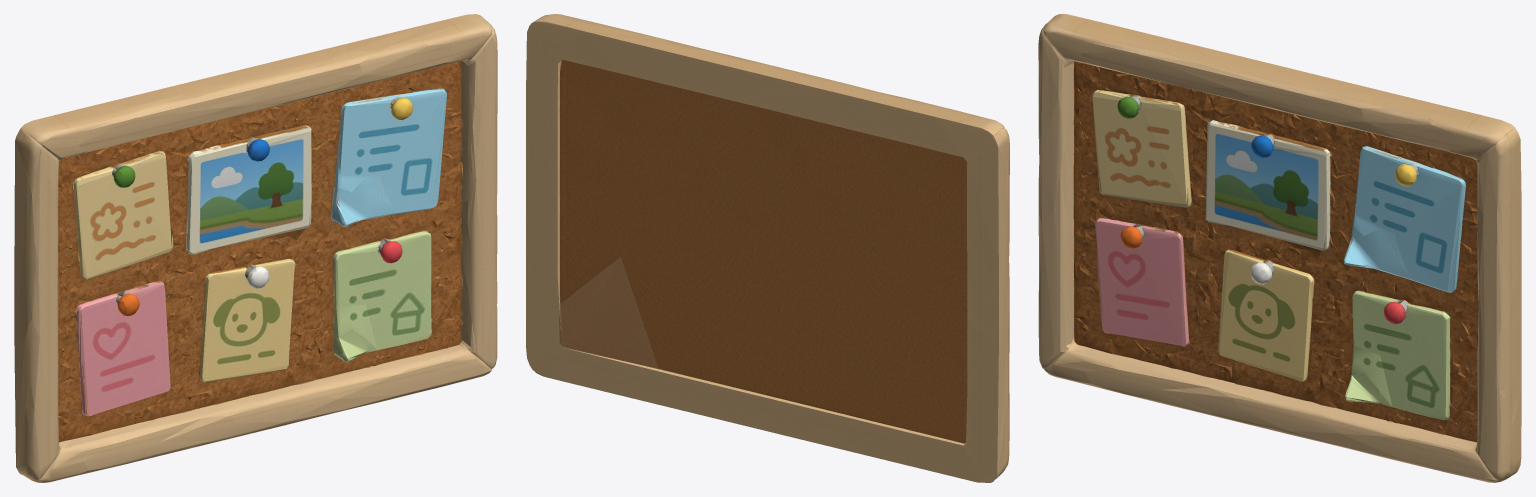
Rendered from corkboard.glb.
The picture shows the model from 3 angles, left to right: view 1: azimuth 30°, elevation 25°; view 2: azimuth 150°, elevation 25°; view 3: azimuth 330°, elevation 25°; orthographic projection.
Parts seen in each view (by area): view 1: mesh_node; view 2: mesh_node; view 3: mesh_node.
Part boxes in pixels (left/top/right/bottom): mesh_node: left=14, top=14, right=497, bottom=482; mesh_node: left=526, top=14, right=1009, bottom=482; mesh_node: left=1038, top=14, right=1521, bottom=482.
Size of the model in its own units: 0.4047 by 0.2909 by 0.03.
Materials: 1 (1 with a texture image).
